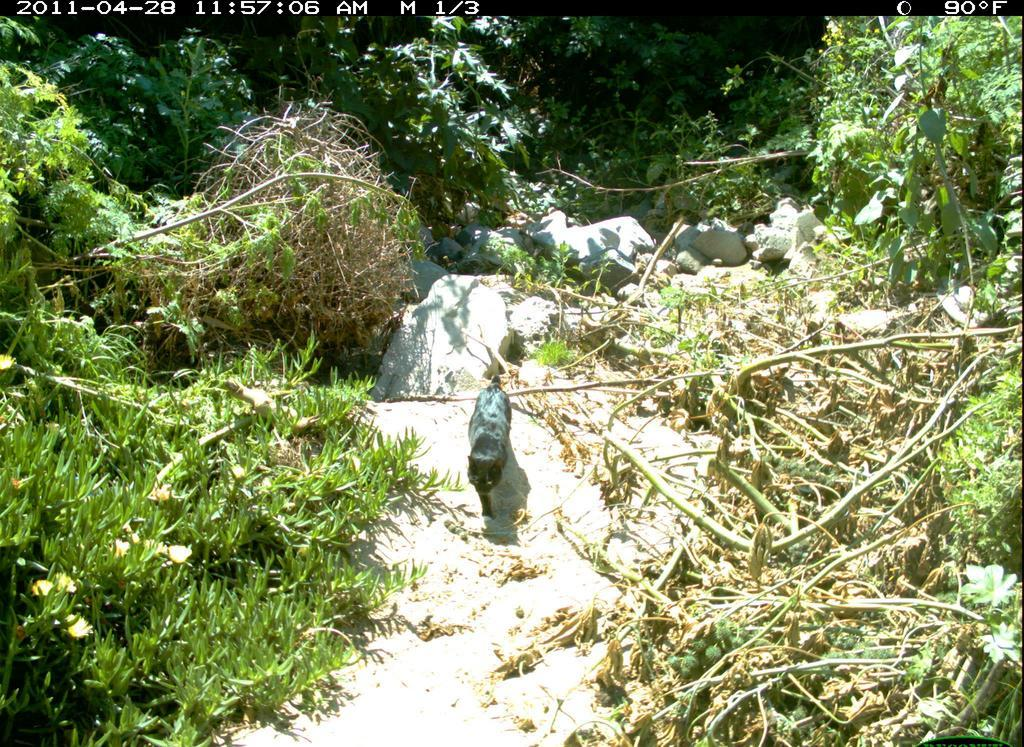cat: (464, 372, 519, 525)
